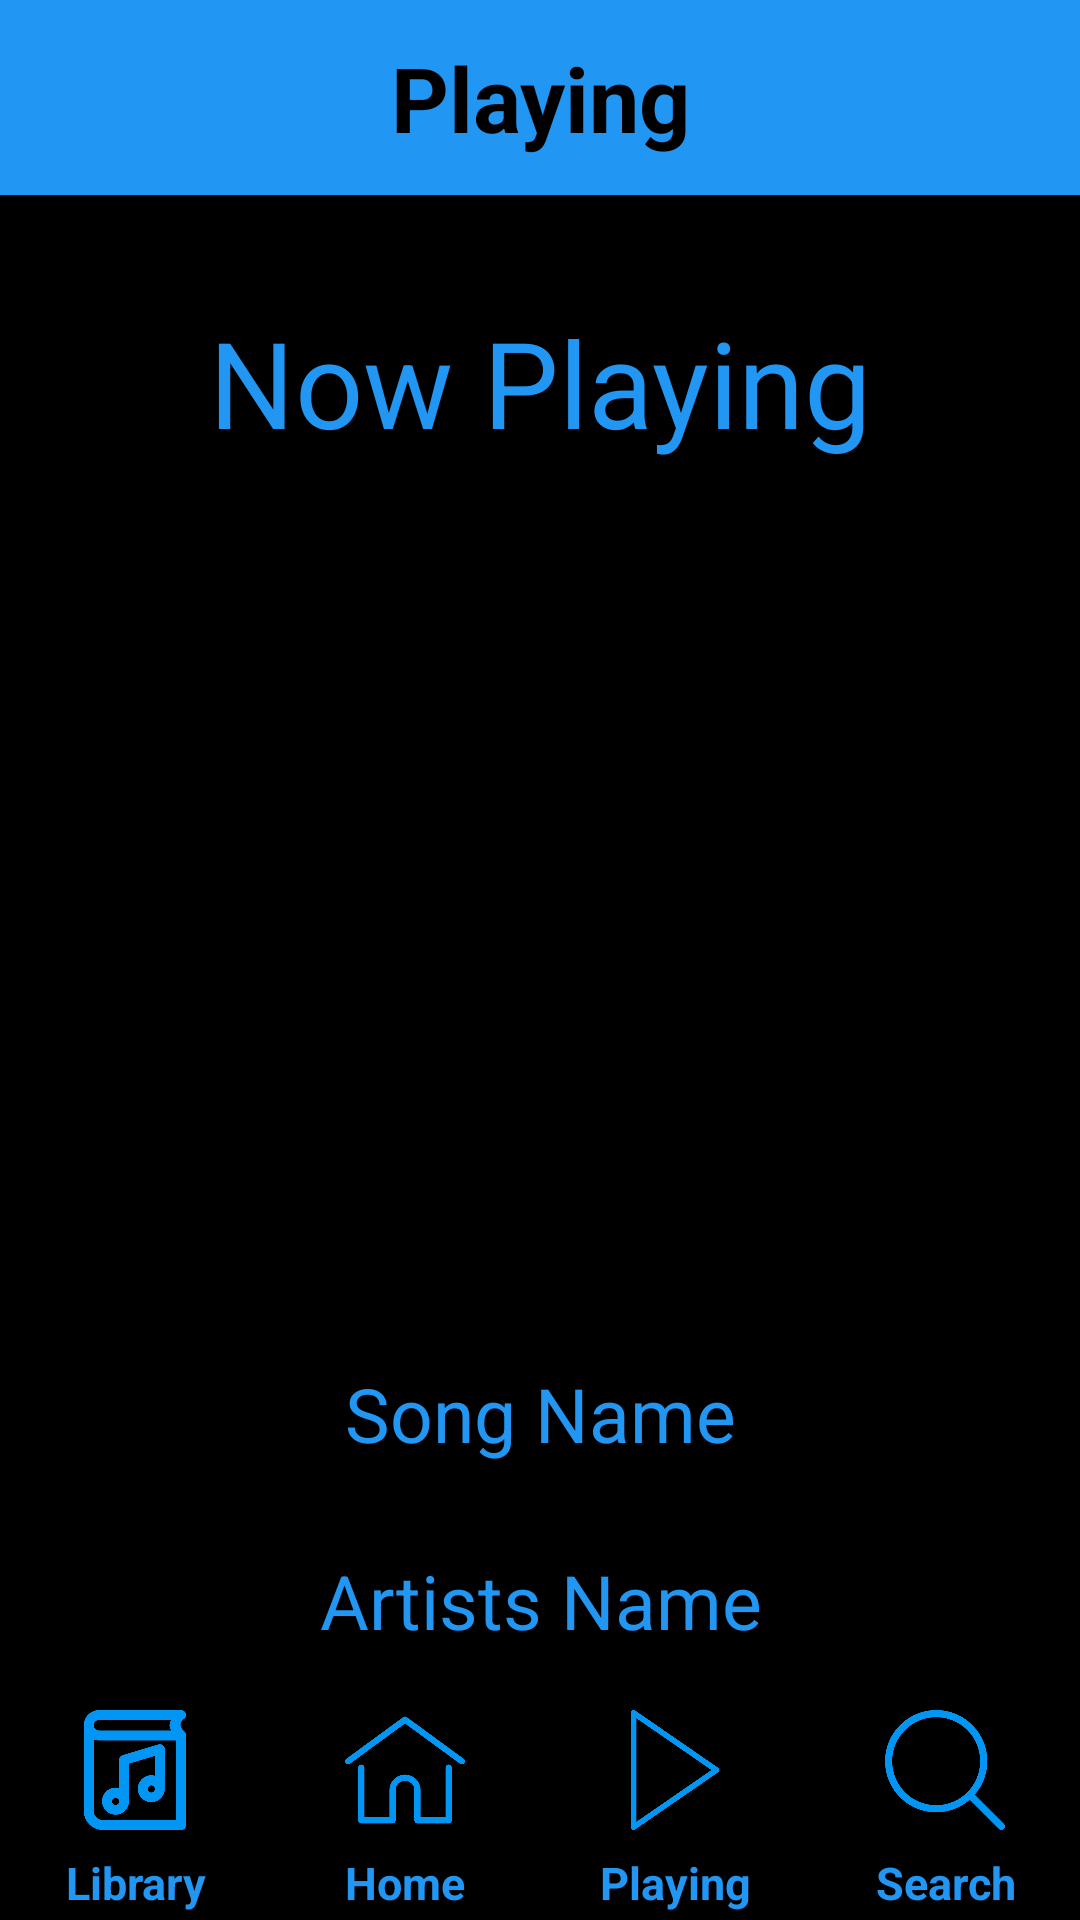

Icons on this 1080px x 1920px Android screen, each with the point to tap as (x,y):
book: (135,1770)
